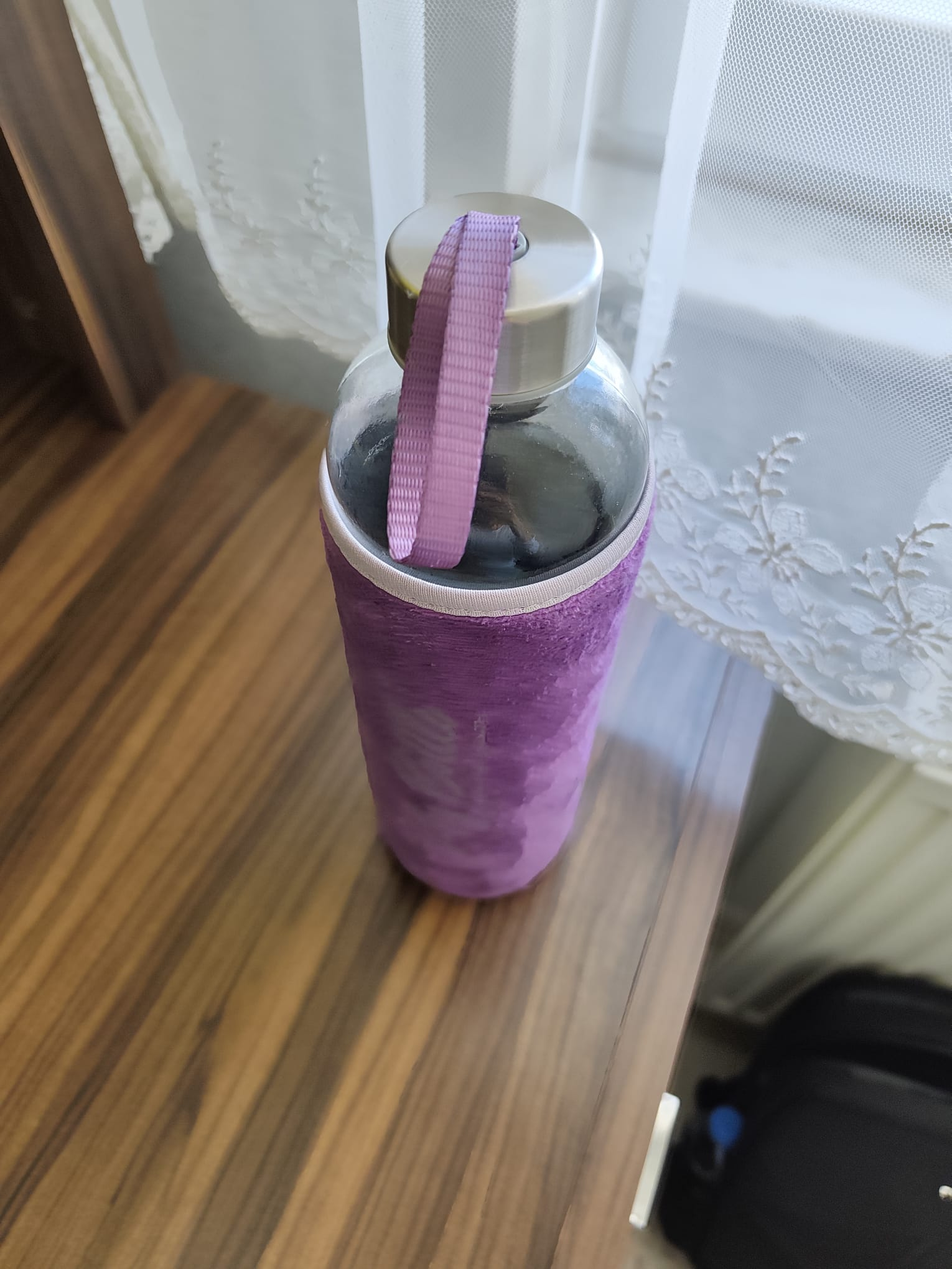su_sisesi: (299, 178, 660, 917)
